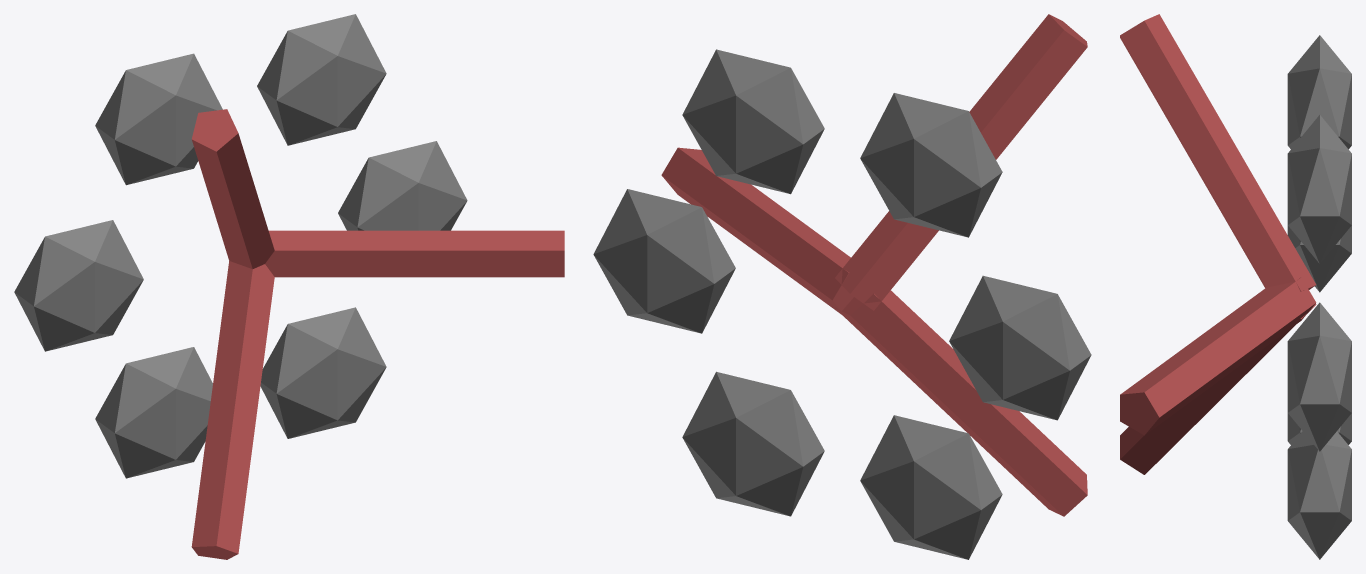
File: campfire.glb
3 views of the same model, side by side, from view 1: azimuth 30°, elevation 25°; view 2: azimuth 150°, elevation 25°; view 3: azimuth 270°, elevation 25° (orthographic). The views are drawn at different scales.
Visible parts, largest first — view 1: geometry_0; view 2: geometry_0; view 3: geometry_0.
Boxes of the visible parts, x1,y1,x2,y2 form: geometry_0: [14, 14, 564, 559]; geometry_0: [593, 14, 1091, 559]; geometry_0: [1120, 14, 1351, 559].
Bounding box in the file's own units: 0.4275 × 0.3994 × 0.1845.
